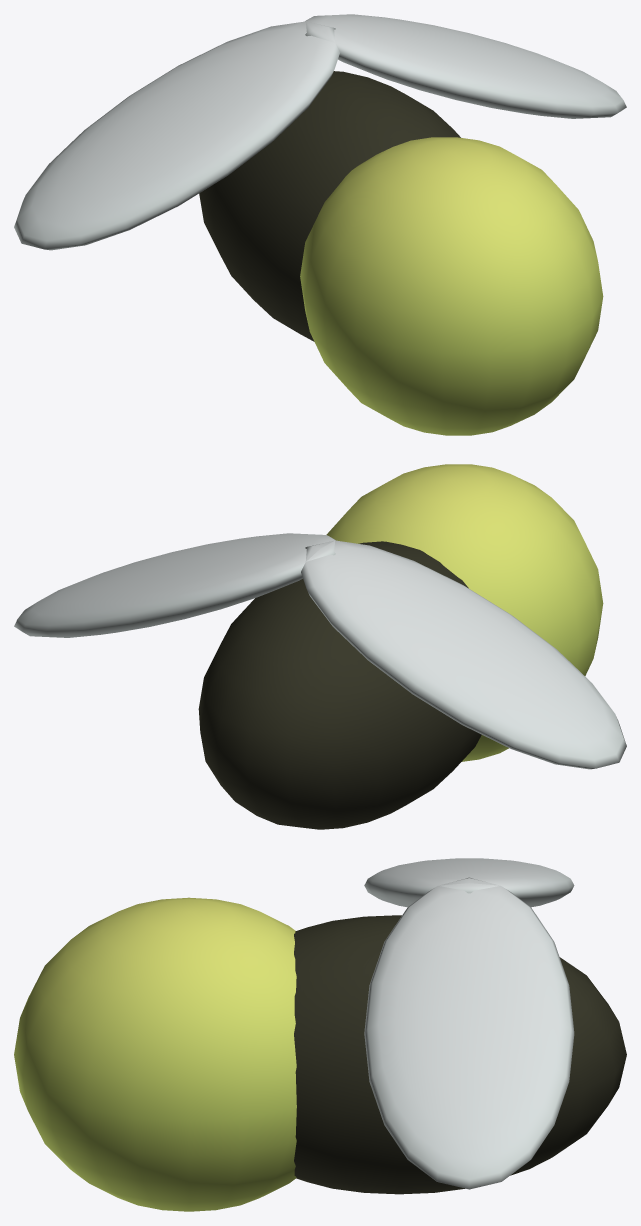
The model's file is firefly.glb.
3 renders of one model, top to bottom at view 1: azimuth 30°, elevation 25°; view 2: azimuth 150°, elevation 25°; view 3: azimuth 270°, elevation 25°, orthographic. The views are drawn at different scales.
Visible parts, largest first — view 1: Firefly; view 2: Firefly; view 3: Firefly.
Boxes of the visible parts, x1=… form: Firefly: x1=14, y1=14, x2=626, y2=435; Firefly: x1=14, y1=464, x2=626, y2=829; Firefly: x1=14, y1=858, x2=626, y2=1211.
Bounding box in the file's own units: 0.2105 × 0.0994 × 0.175.
